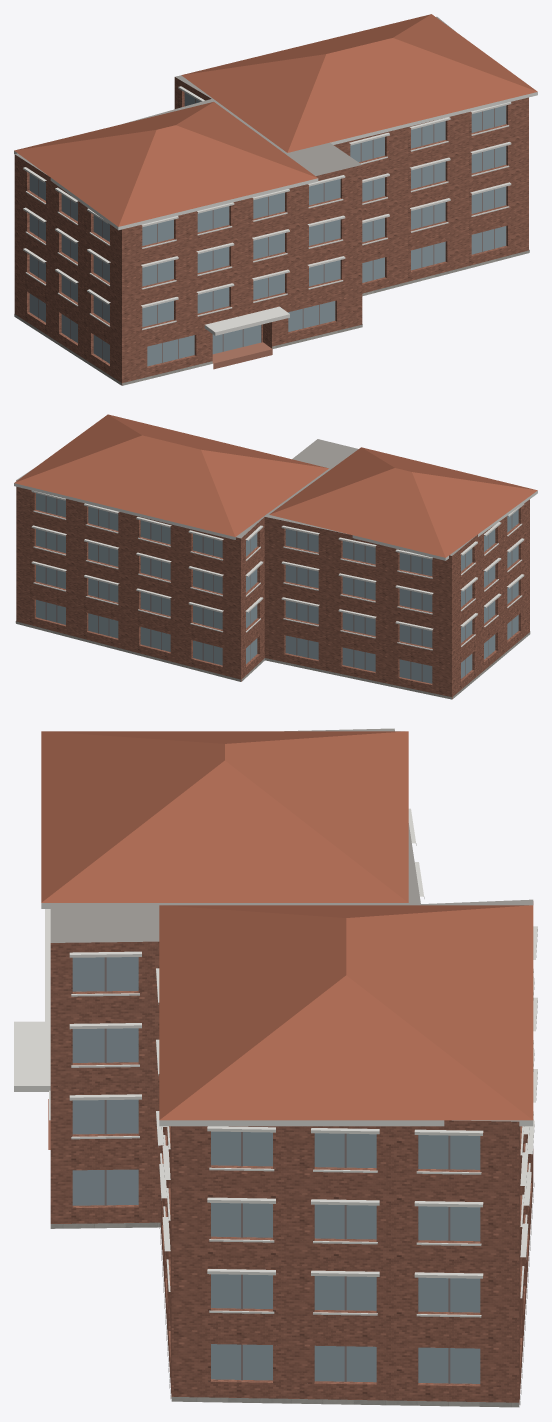
The picture shows the model from 3 angles, top to bottom: view 1: azimuth 30°, elevation 25°; view 2: azimuth 150°, elevation 25°; view 3: azimuth 270°, elevation 25°; orthographic projection. The views are drawn at different scales.
Visible parts, largest first — view 1: osm136242803__wall, osm136242803__roofAccent, osm136242803__glass, osm136242803__trim, osm136242803__roof, osm136242803__base, osm136242803__frame, osm136242803__canopy, osm136242803__entranceThreshold_0; view 2: osm136242803__wall, osm136242803__roofAccent, osm136242803__glass, osm136242803__trim, osm136242803__frame, osm136242803__roof, osm136242803__base; view 3: osm136242803__roofAccent, osm136242803__wall, osm136242803__glass, osm136242803__trim, osm136242803__roof, osm136242803__base, osm136242803__canopy, osm136242803__frame.
Part boxes in pixels (<box>): osm136242803__wall: <box>14,77,528,385</box>; osm136242803__roofAccent: <box>14,14,537,226</box>; osm136242803__glass: <box>29,92,506,366</box>; osm136242803__trim: <box>14,86,537,330</box>; osm136242803__roof: <box>15,16,454,175</box>; osm136242803__base: <box>14,250,529,385</box>; osm136242803__frame: <box>38,98,494,362</box>; osm136242803__canopy: <box>204,306,289,335</box>; osm136242803__entranceThreshold_0: <box>212,342,272,369</box>; osm136242803__wall: <box>16,480,529,698</box>; osm136242803__roofAccent: <box>14,414,537,557</box>; osm136242803__glass: <box>36,493,518,683</box>; osm136242803__trim: <box>14,483,537,650</box>; osm136242803__frame: <box>45,496,512,681</box>; osm136242803__roof: <box>16,439,476,699</box>; osm136242803__base: <box>15,621,530,699</box>; osm136242803__roofAccent: <box>41,731,533,1120</box>; osm136242803__wall: <box>50,901,533,1404</box>; osm136242803__glass: <box>72,957,480,1383</box>; osm136242803__trim: <box>41,808,537,1317</box>; osm136242803__roof: <box>50,728,533,1407</box>; osm136242803__base: <box>50,1183,534,1407</box>; osm136242803__canopy: <box>14,1021,50,1091</box>; osm136242803__frame: <box>104,957,450,1383</box>.
Size of the model in its own units: 35.76 by 15.18 by 19.97.
10 materials, 2 textured.
